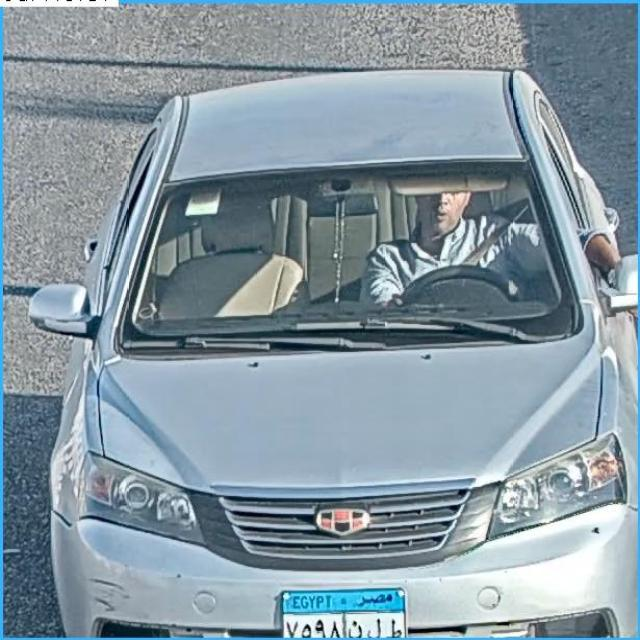Seat_belt: (366, 165, 565, 344)
